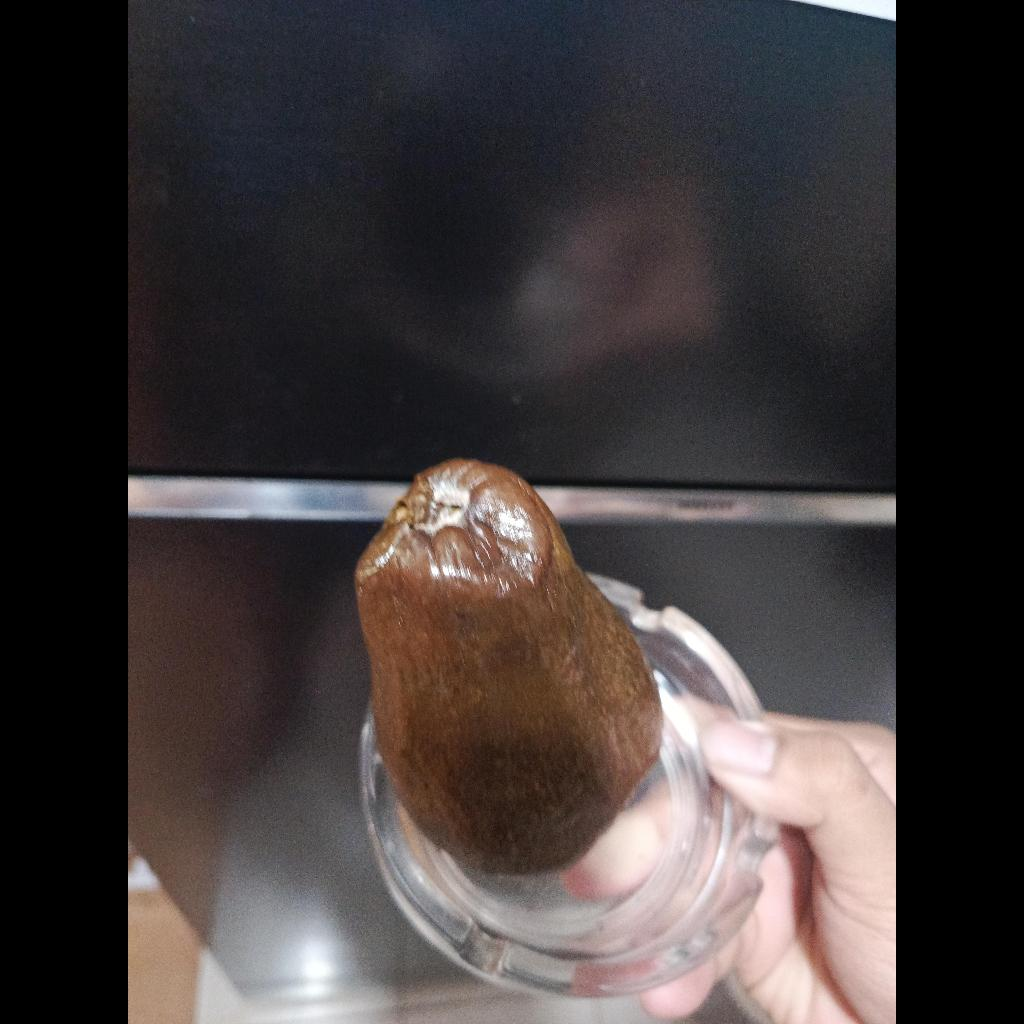pudricion_peduncular: (356, 460, 662, 873)
